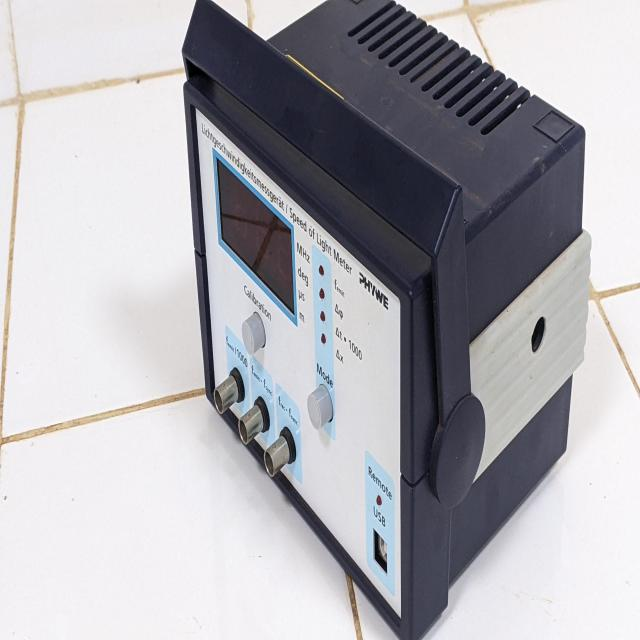Power Supply of Speed of Light Demo: (175, 1, 611, 636)
